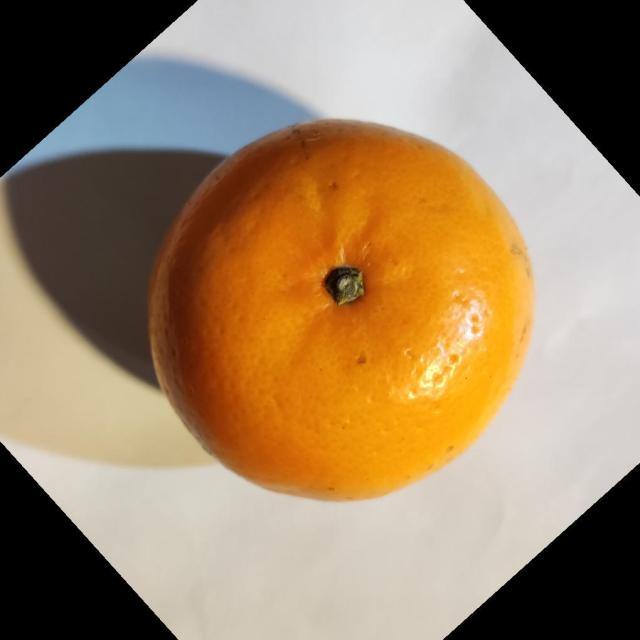fresh orange: (146, 116, 536, 503)
